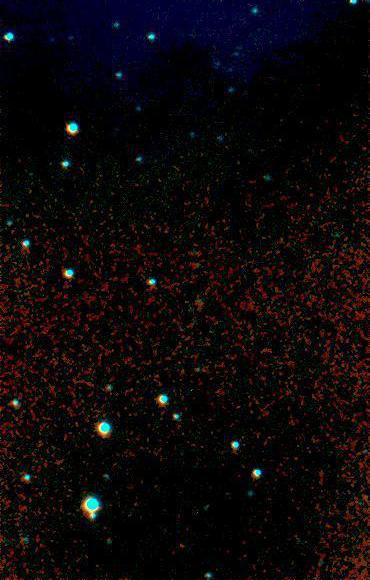star: (168, 531, 198, 561)
